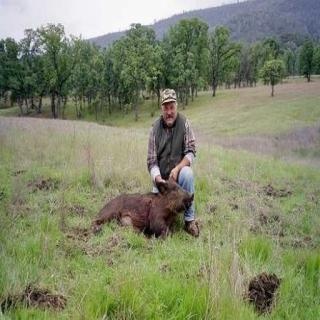Pig: (97, 172, 198, 253)
